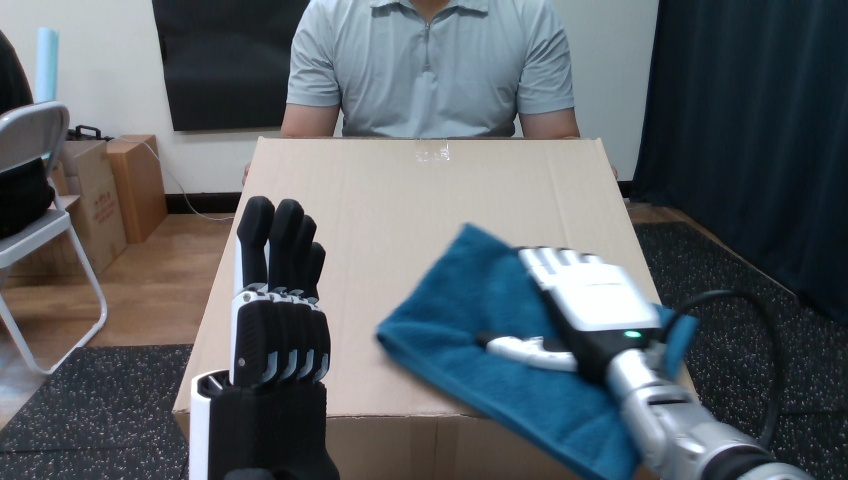left robot hand: (479, 247, 811, 479), (189, 196, 338, 479), (662, 295, 775, 440)
